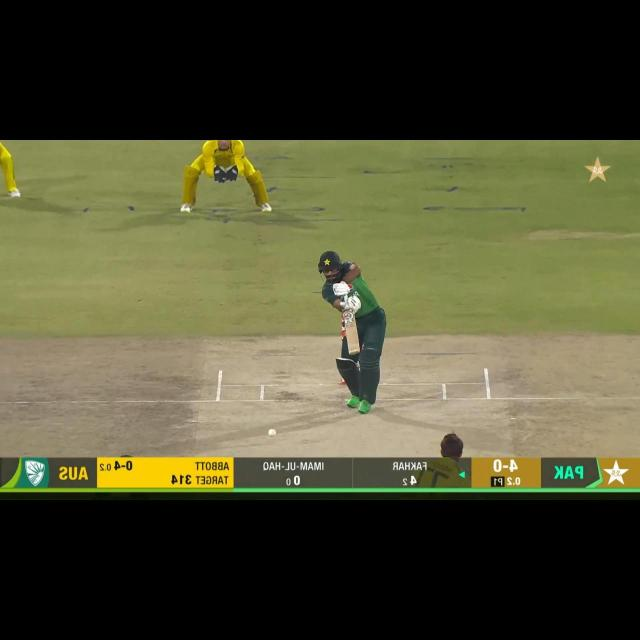bat: (342, 309, 362, 355)
toe: (348, 349, 360, 356)
